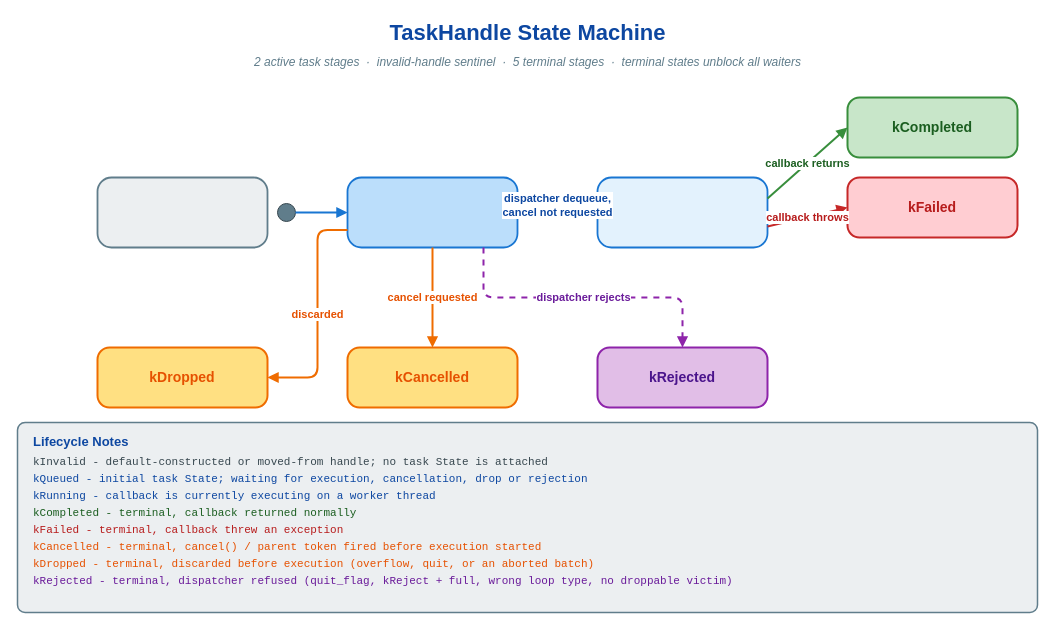
The diagram is 1056 pixels wide and 630 high, and some of its shapes have lost their labels. Here are the shapes that lost their labels. From the top down, the centre of each, then its label:
point 182,212: kInvalid
point 432,212: kQueued
point 682,212: kRunning
